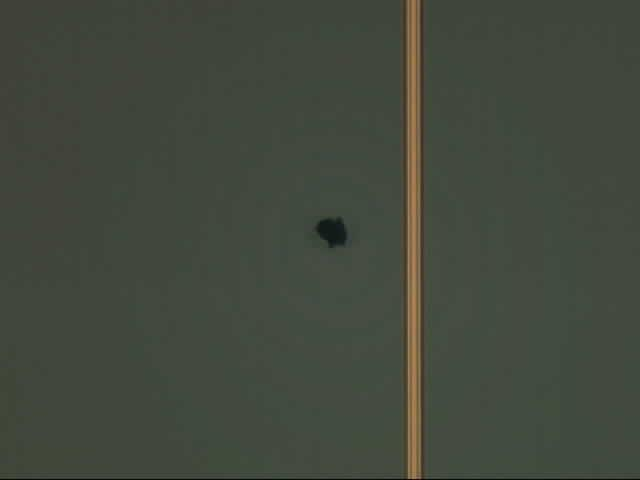PIQ PARTICLE: (314, 213, 354, 253)
